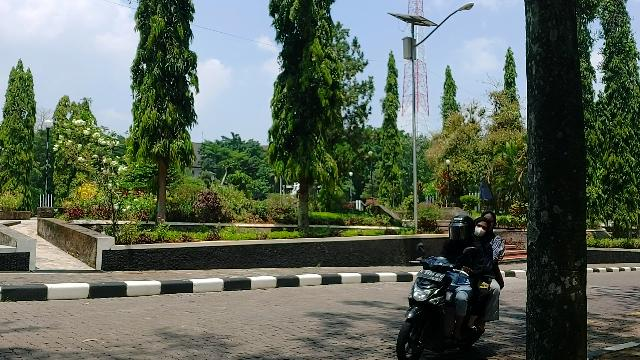helm: (449, 215, 475, 243)
motor: (397, 244, 494, 360)
non-helm: (475, 218, 491, 240), (482, 212, 498, 233)
